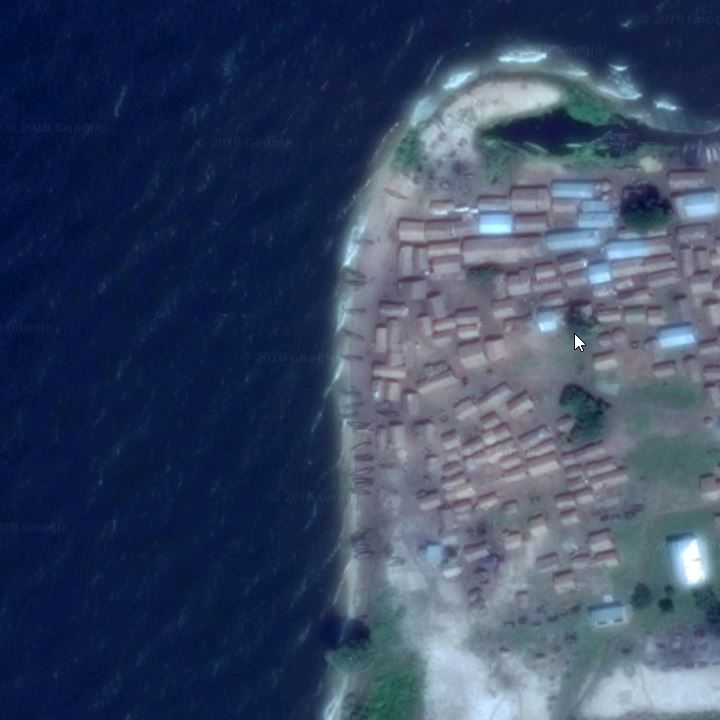boat: (379, 186, 412, 207), (341, 474, 376, 490), (346, 235, 378, 252), (333, 265, 370, 279), (337, 328, 368, 343), (347, 464, 376, 479), (344, 486, 375, 500), (337, 277, 368, 290), (379, 458, 403, 474), (708, 139, 720, 171), (342, 304, 368, 318), (346, 439, 370, 454), (335, 386, 364, 398), (350, 541, 374, 554), (338, 352, 368, 362), (342, 420, 370, 429), (352, 455, 377, 465), (703, 144, 712, 170), (355, 551, 376, 561)
